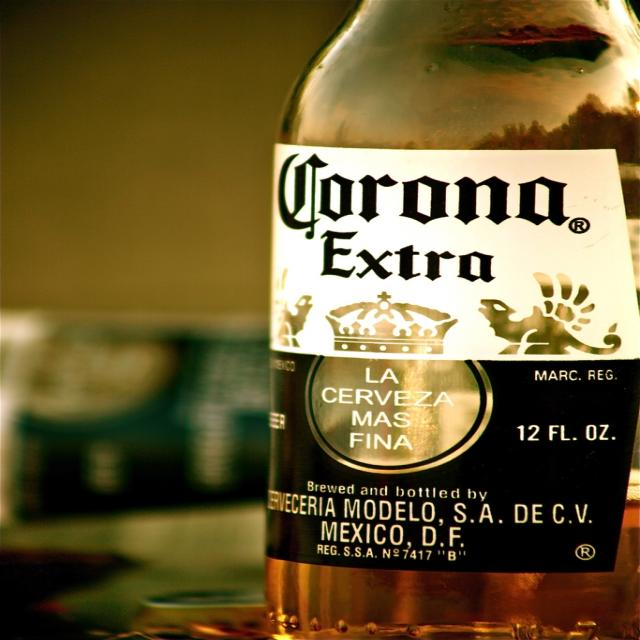corona: (266, 144, 640, 574)
